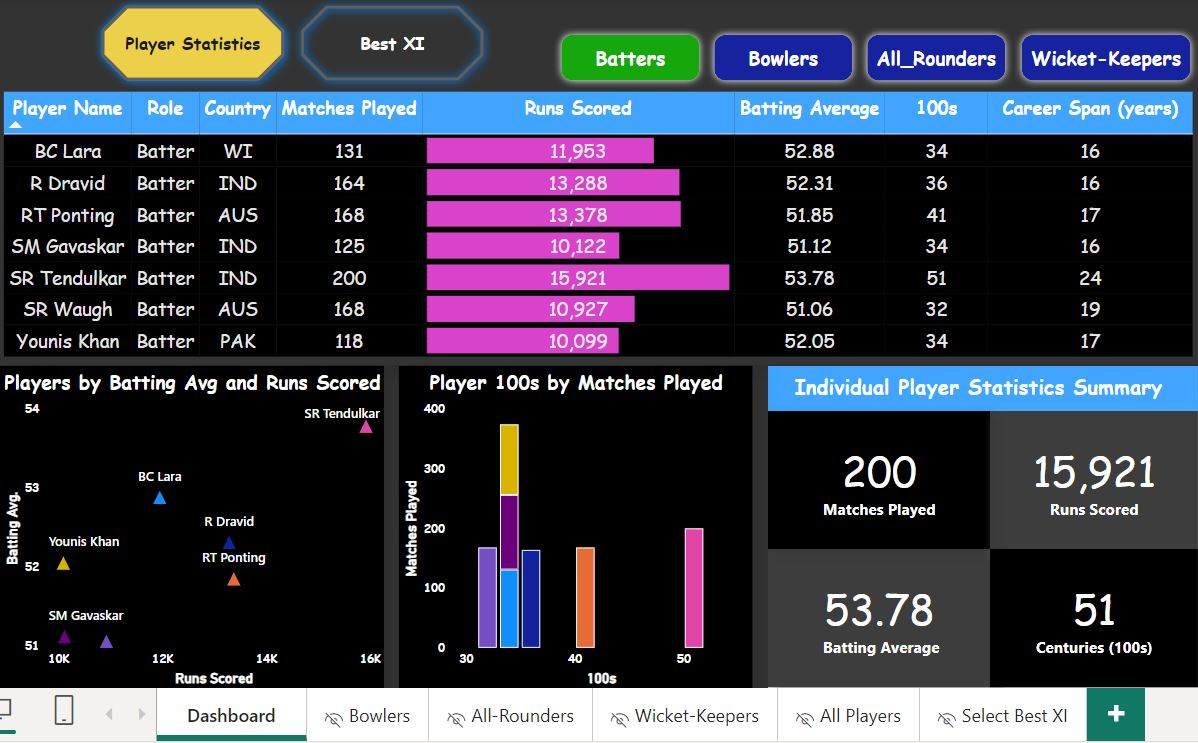

The dashboard page shown, as its layout file describes it:
{"tool":"powerbi","page":{"name":"Dashboard","canvas":[1280,720],"ordinal":0},"visuals":[{"type":"shape","box":[816,416,448,304],"z":0},{"type":"tableEx","fields":{"Values":["Batters.Player_Name","Batters.Role","Batters.Country","Batters.Matches","Batters.Runs_Scored","Batters.Batting_Average","Batters.100s","Batters.Career_Span(yrs)"]},"box":[16,96,1248,288],"z":1000},{"type":"lineChart","title":"Players by Batting Avg and Runs Scored","fields":{"Category":["Batters.Runs_Scored"],"Y":["Batters.Batting_Average"],"Series":["Batters.Player_Name"]},"box":[16,384,400,336],"z":2000},{"type":"card","fields":{"Values":["Batters.Matches"]},"box":[816,432,231.2,144],"z":3000,"group":"g1"},{"type":"textbox","box":[816,384,448,48],"z":3000},{"type":"card","fields":{"Values":["Batters.Batting_Average"]},"box":[816,576,231.2,144],"z":4000,"group":"g1"},{"type":"group","id":"g1","title":"Group 1","box":[816,432,448,288],"z":4000},{"type":"card","fields":{"Values":["Batters.Runs_Scored"]},"box":[1047.2,432,216.8,144],"z":5000,"group":"g1"},{"type":"shape","box":[592,32,160,64],"z":5000},{"type":"shape","box":[752,32,160,64],"z":6000},{"type":"card","fields":{"Values":["Batters.100s"]},"box":[1047.2,576,216.8,144],"z":6000,"group":"g1"},{"type":"shape","box":[912,32,160,64],"z":7000},{"type":"shape","box":[1072,32,192,64],"z":8000},{"type":"lineStackedColumnComboChart","title":"Player 100s by Matches Played","fields":{"Category":["Batters.100s"],"Series":["Batters.Player_Name"],"Y":["Batters.Matches"]},"box":[432,384,368,336],"z":9000},{"type":"actionButton","title":"Player Statistics","box":[112,0,208,96],"z":10000},{"type":"actionButton","title":"Player Statistics","box":[320,0,208,96],"z":11000}]}

Visuals, with their boxes on the page's 1280x720 design canvas (x1, y1, x2, y2). These are canvas units, not pixel positions in the 1198x743 screenshot, which may show the page scaled, cropped or inside an application window:
shape: (x1=816, y1=416, x2=1264, y2=720)
tableEx - Batters.Player_Name x Batters.Role: (x1=16, y1=96, x2=1264, y2=384)
"Players by Batting Avg and Runs Scored" lineChart: (x1=16, y1=384, x2=416, y2=720)
card - Batters.Matches: (x1=816, y1=432, x2=1047, y2=576)
textbox: (x1=816, y1=384, x2=1264, y2=432)
card - Batters.Batting_Average: (x1=816, y1=576, x2=1047, y2=720)
"Group 1" group: (x1=816, y1=432, x2=1264, y2=720)
card - Batters.Runs_Scored: (x1=1047, y1=432, x2=1264, y2=576)
shape: (x1=592, y1=32, x2=752, y2=96)
shape: (x1=752, y1=32, x2=912, y2=96)
card - Batters.100s: (x1=1047, y1=576, x2=1264, y2=720)
shape: (x1=912, y1=32, x2=1072, y2=96)
shape: (x1=1072, y1=32, x2=1264, y2=96)
"Player 100s by Matches Played" lineStackedColumnComboChart: (x1=432, y1=384, x2=800, y2=720)
"Player Statistics" actionButton: (x1=112, y1=0, x2=320, y2=96)
"Player Statistics" actionButton: (x1=320, y1=0, x2=528, y2=96)
